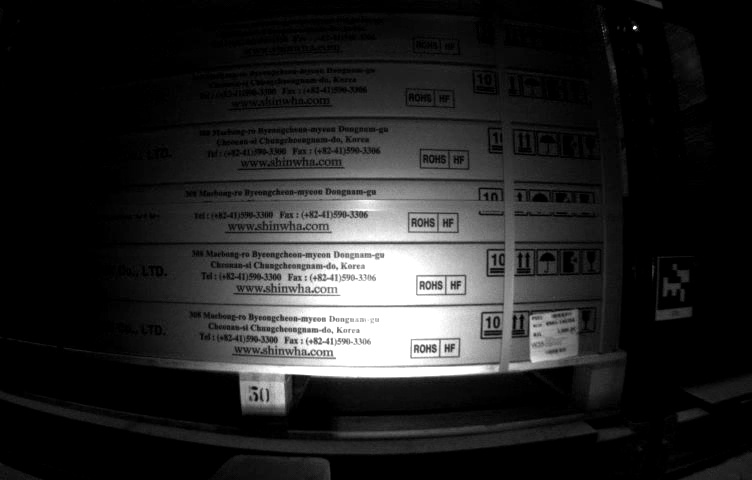True Barcode: (528, 310, 580, 358)
